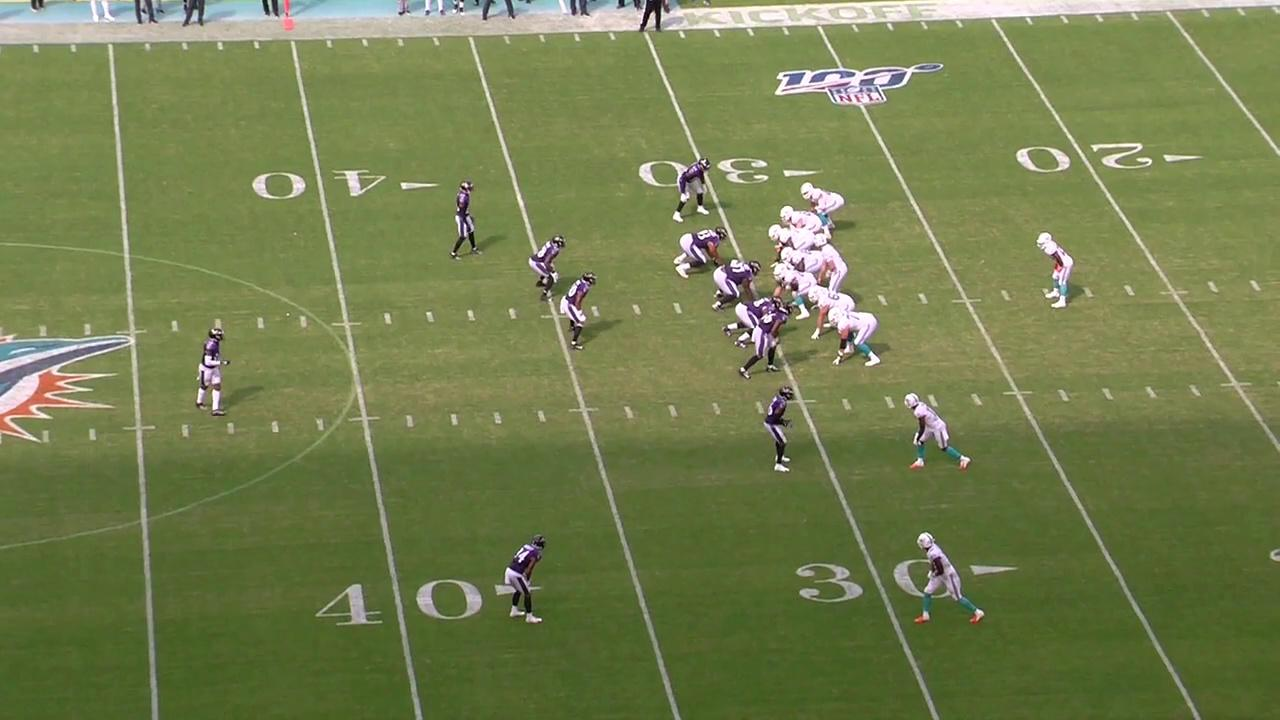defense: (736, 301, 794, 382), (503, 531, 552, 626), (192, 322, 234, 420), (722, 293, 786, 350), (671, 224, 732, 282), (559, 269, 600, 354), (761, 383, 799, 474), (448, 176, 484, 263), (710, 257, 763, 314), (671, 156, 715, 224), (527, 233, 569, 304)
oline: (826, 306, 882, 369), (806, 284, 857, 343), (770, 262, 818, 322), (767, 223, 816, 270), (777, 244, 827, 275)
qb: (811, 231, 850, 292)
skill: (912, 530, 987, 627), (902, 390, 975, 473), (1035, 231, 1075, 311), (800, 180, 846, 242), (779, 205, 823, 235)
